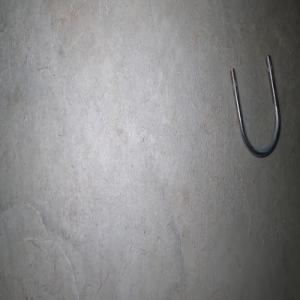ClampPart: (229, 53, 281, 159)
